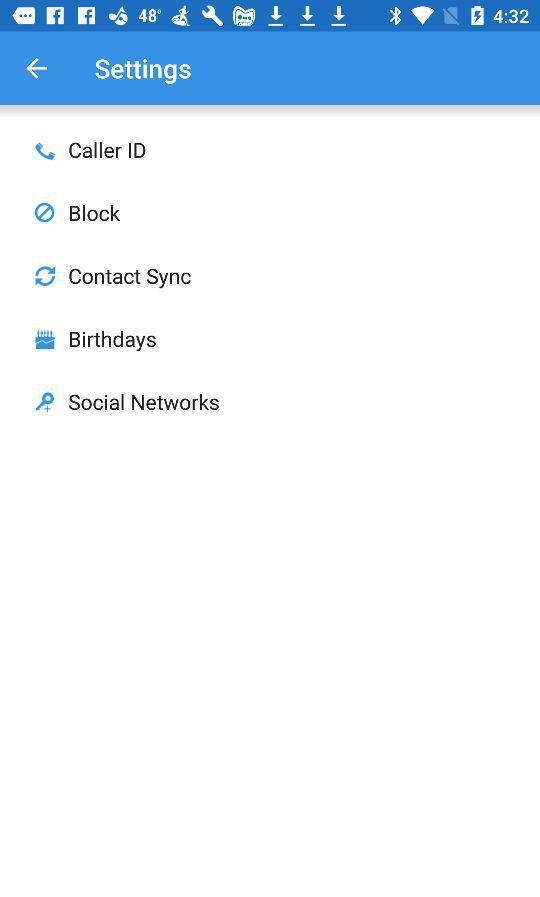Icon: (26, 58, 49, 81), (35, 266, 57, 288), (36, 392, 56, 414)
Image: (35, 329, 57, 351), (35, 203, 56, 224), (36, 142, 57, 162)
Text: (69, 393, 220, 412), (95, 59, 193, 86), (69, 269, 192, 290), (70, 331, 158, 353), (69, 142, 147, 160), (70, 205, 122, 223)
Toolbar: (1, 33, 540, 106)
UpperTaskBar: (1, 1, 540, 33)
